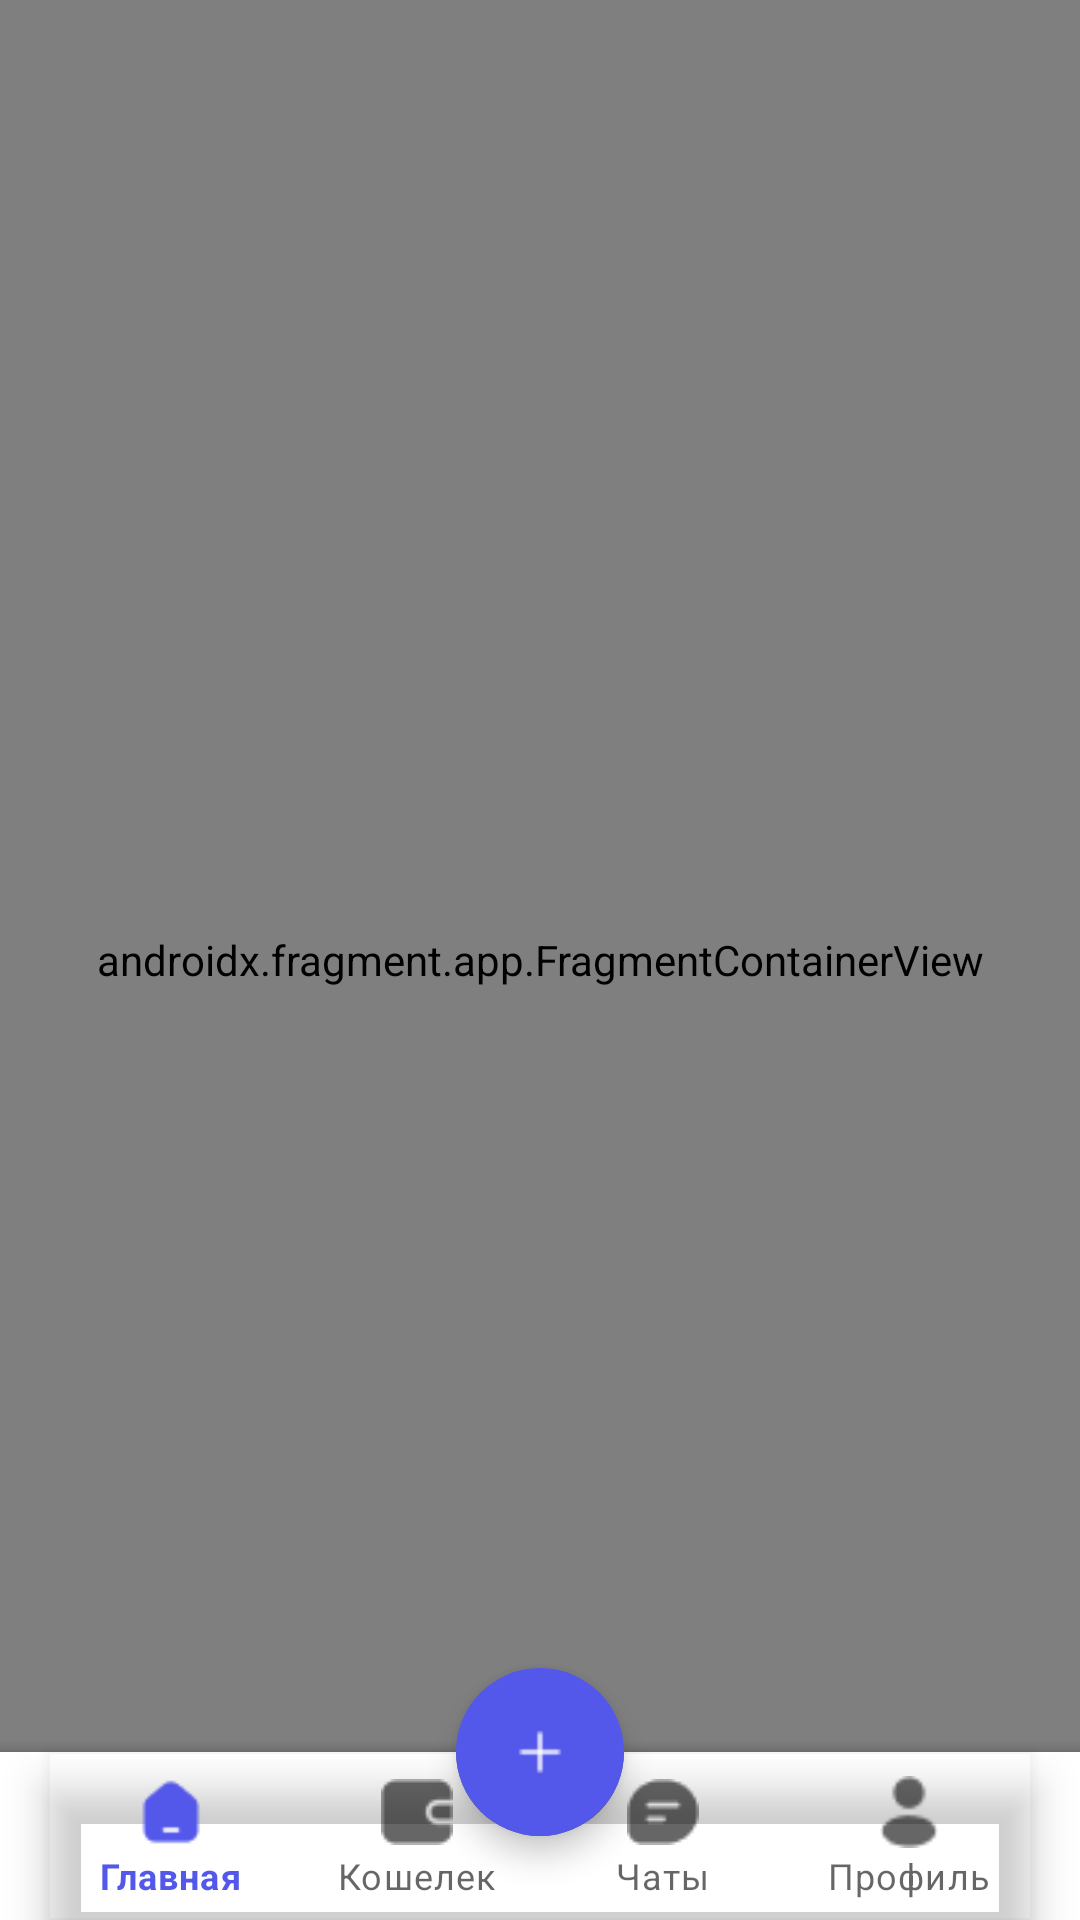

Icons on this 1080px×1920px Android screen, each with the point to tap as (x,y):
plus: (540,1752)
